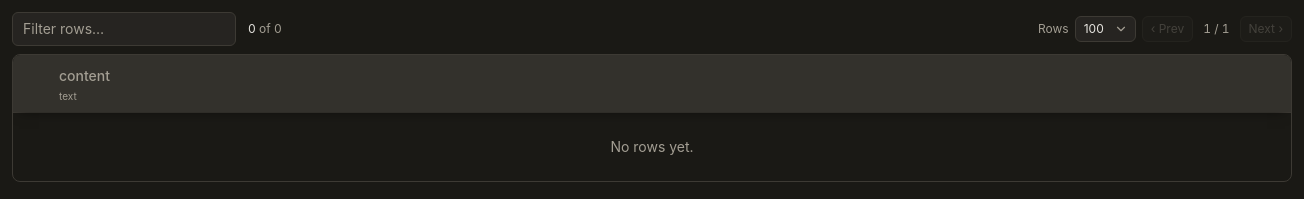
DataGrid — the frame › shows an empty-table note, and a different one when a filter hides everything
Expected: the text "No rows yet." is shown, [13,112,1291,181]
Type "zzz" into the field with placeholder "Filter rows…" at [124, 29], box [12,12,236,46]
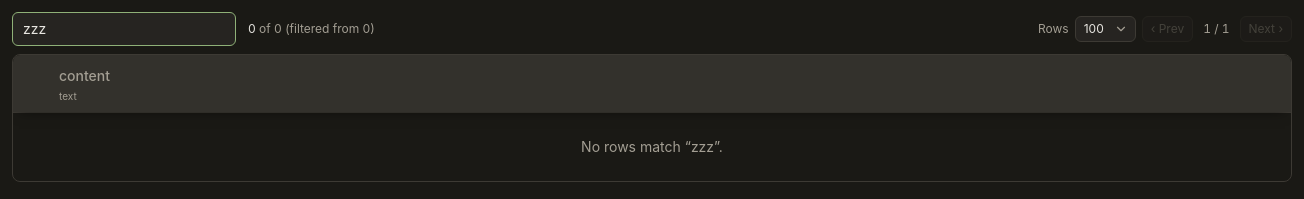
Result: the text "No rows match “zzz”." is shown at [13,112,1291,181]
